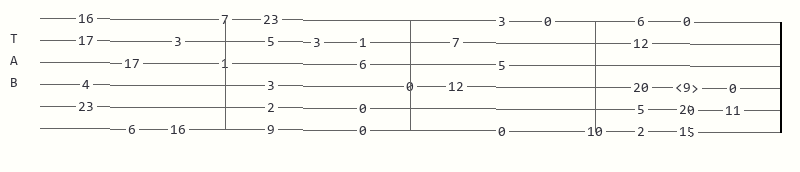0: (359, 124, 371, 137), (359, 102, 371, 115), (406, 80, 418, 93), (498, 124, 510, 137), (544, 14, 556, 27), (683, 14, 695, 27), (729, 80, 741, 93)
1: (221, 58, 233, 71), (359, 36, 371, 49)
10: (587, 124, 607, 137)
11: (725, 102, 745, 115)
12: (448, 80, 468, 93), (633, 36, 653, 49)
15: (679, 124, 699, 137)
16: (78, 14, 98, 27), (170, 124, 190, 137)
17: (78, 36, 98, 49), (124, 58, 144, 71)
2: (267, 102, 279, 115), (637, 124, 649, 137)
20: (633, 80, 653, 93), (679, 102, 699, 115)
23: (78, 102, 98, 115), (263, 14, 283, 27)
3: (174, 36, 186, 49), (267, 80, 279, 93), (313, 36, 325, 49), (498, 14, 510, 27)
4: (82, 80, 94, 93)
5: (267, 36, 279, 49), (498, 58, 510, 71), (637, 102, 649, 115)
6: (128, 124, 140, 137), (359, 58, 371, 71), (637, 14, 649, 27)
7: (221, 14, 233, 27), (452, 36, 464, 49)
9: (267, 124, 279, 137)
harmonic: (675, 80, 703, 93)
